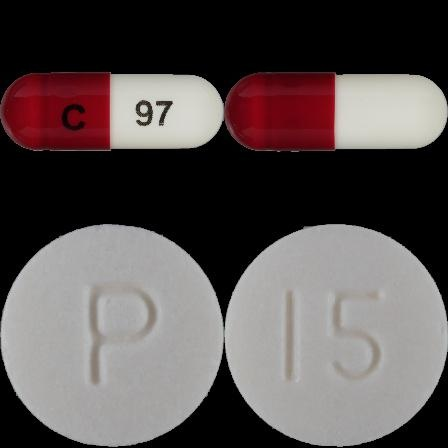68788-6416: (0, 0, 224, 224)
